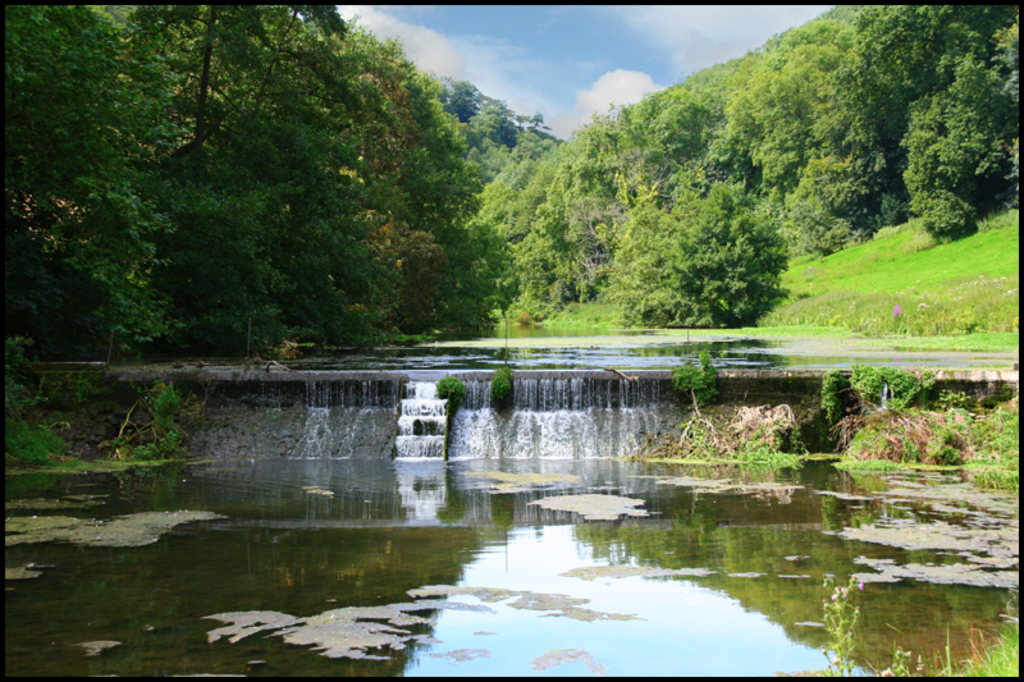Tree: (3, 4, 1021, 352)
